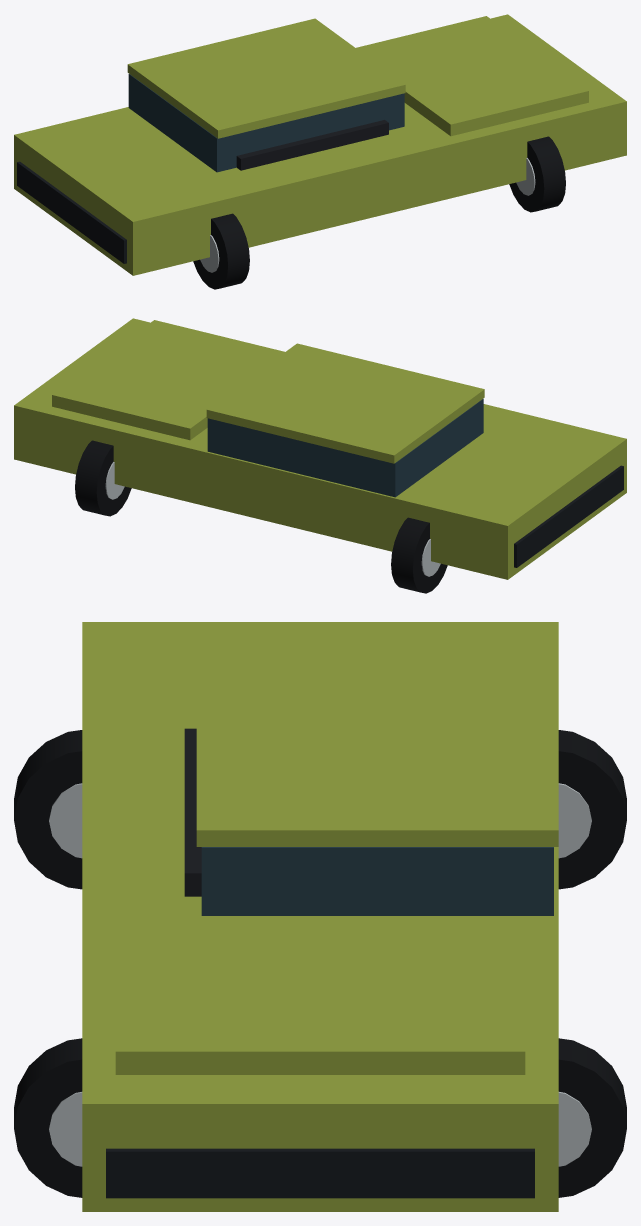
File: lambo_sian_fkp_37.glb
3 views of the same model, one above another, from view 1: azimuth 30°, elevation 25°; view 2: azimuth 150°, elevation 25°; view 3: azimuth 270°, elevation 25° (orthographic). The views are drawn at different scales.
Visible parts, largest first — view 1: body, roof, hood, cabin, rear_bumper, front_right_wheel, rear_right_wheel, interior; view 2: body, roof, hood, cabin, rear_bumper, front_left_wheel, rear_left_wheel; view 3: body, roof, hood, cabin, front_bumper, front_left_wheel, front_right_wheel, rear_left_wheel, rear_right_wheel, interior.
Part boxes in pixels (x1,y1,x2,y2): body: [14, 14, 626, 275]; roof: [127, 18, 405, 138]; hood: [356, 16, 588, 136]; cabin: [128, 74, 404, 172]; rear_bumper: [17, 161, 126, 263]; front_right_wheel: [509, 136, 565, 212]; rear_right_wheel: [193, 213, 249, 289]; interior: [236, 120, 388, 170]; body: [14, 318, 626, 579]; roof: [206, 343, 484, 463]; hood: [52, 320, 284, 440]; cabin: [207, 399, 483, 497]; rear_bumper: [514, 465, 623, 567]; front_left_wheel: [75, 440, 131, 516]; rear_left_wheel: [391, 517, 447, 593]; body: [82, 622, 558, 1211]; roof: [196, 647, 558, 846]; hood: [115, 916, 525, 1074]; cabin: [201, 847, 553, 915]; front_bumper: [106, 1148, 534, 1198]; front_left_wheel: [558, 1038, 626, 1197]; front_right_wheel: [14, 1038, 82, 1197]; rear_left_wheel: [558, 730, 626, 889]; rear_right_wheel: [14, 730, 82, 889]; interior: [184, 728, 201, 896].
Bounding box in the file's own units: 5.04 × 1.24 × 2.68.
